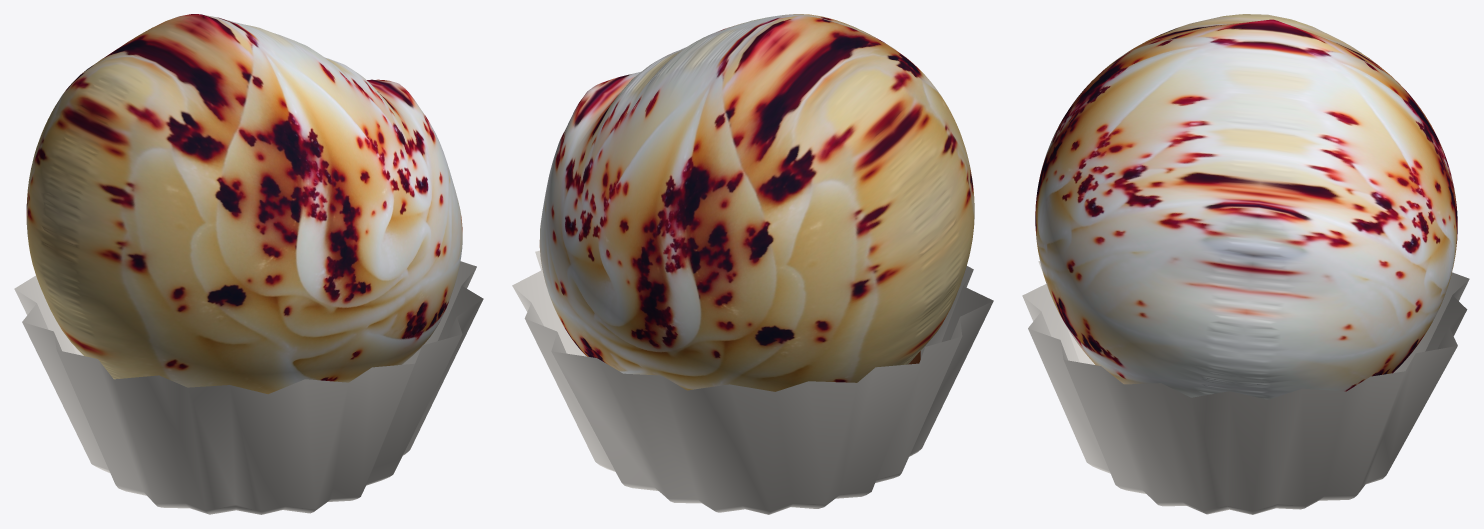
File: cupcake.glb
3 views of the same model, side by side, from view 1: azimuth 30°, elevation 25°; view 2: azimuth 150°, elevation 25°; view 3: azimuth 270°, elevation 25° (orthographic). The views are drawn at different scales.
Visible parts, largest first — view 1: mm_frame.obj, arch40_011; view 2: mm_frame.obj, arch40_011; view 3: mm_frame.obj, arch40_011.
Boxes of the visible parts, <box> form: mm_frame.obj: <box>26,14,462,394</box>; arch40_011: <box>14,261,483,514</box>; mm_frame.obj: <box>539,14,974,391</box>; arch40_011: <box>512,250,993,514</box>; mm_frame.obj: <box>1035,14,1457,399</box>; arch40_011: <box>1022,261,1469,514</box>.
Bounding box in the file's own units: 0.0475 × 0.0488 × 0.0467.
3 materials, 2 textured.
